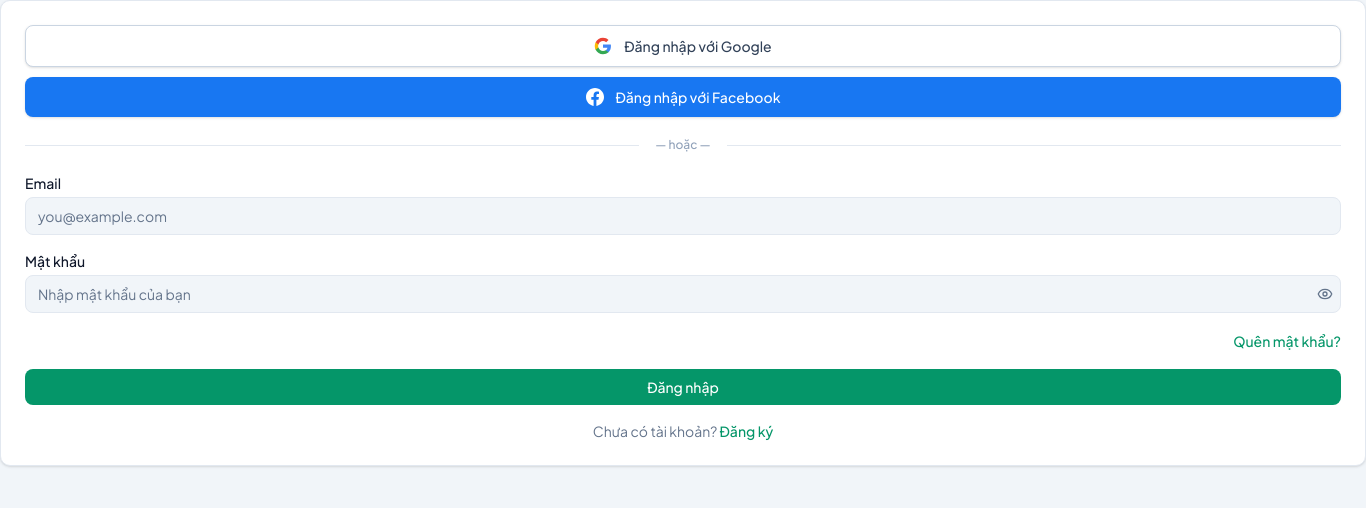
Test: LoginForm › shows validation error on blur for empty password
Click the password field with placeholder "Nhập mật khẩu của bạn" at point(683, 294), box top-left (25, 275), bottom-right (1341, 313)
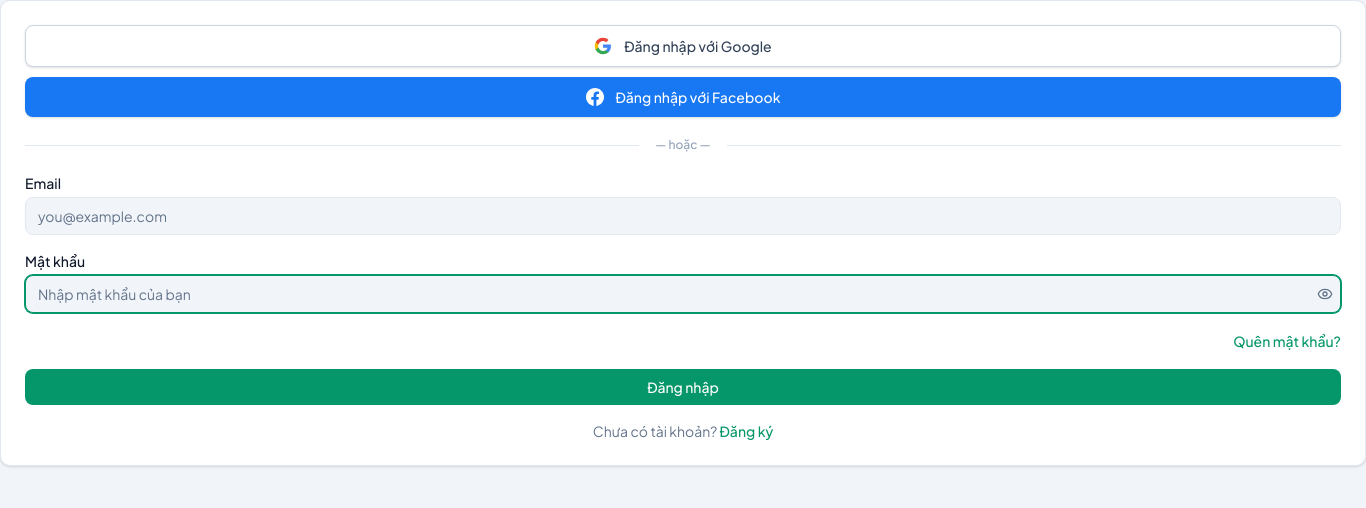
Press Tab
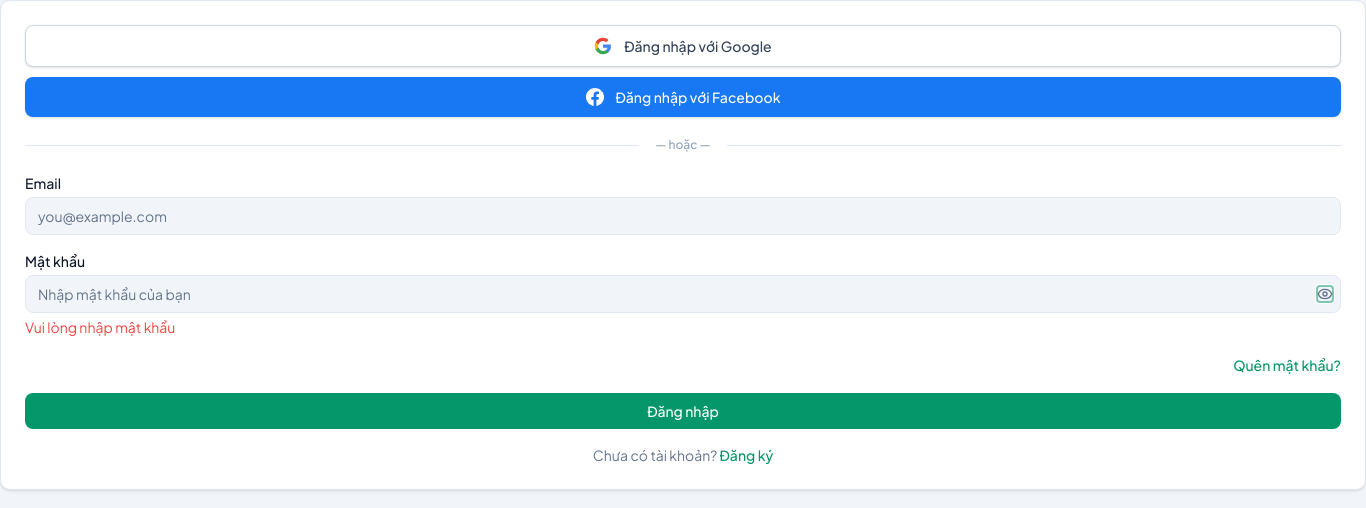
Expected: the text "Vui lòng nhập mật khẩu" is shown, top-left (25, 318), bottom-right (175, 336)
